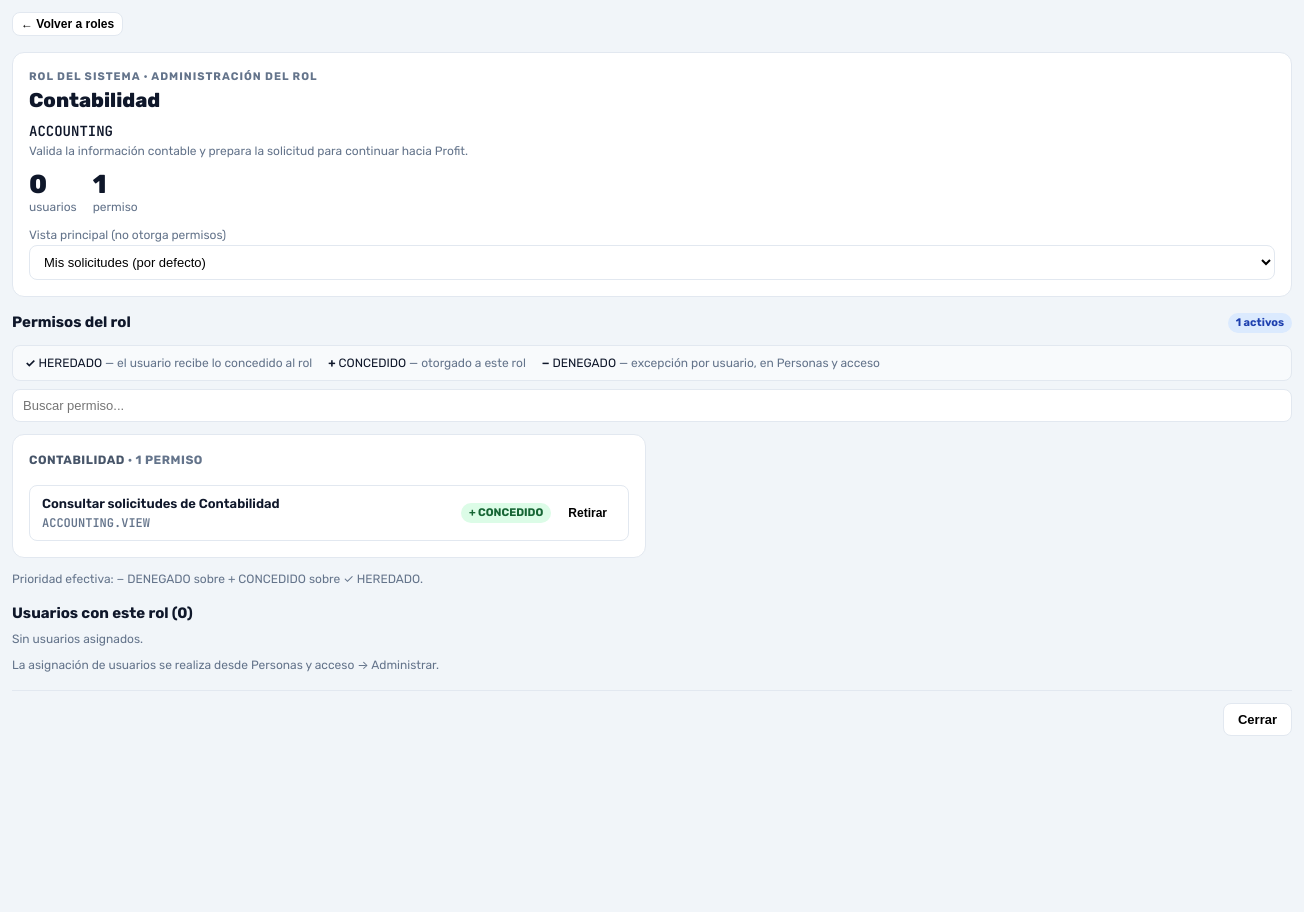
FASE 18 — vista principal en Roles y permisos › Caso 10: cambiar la vista persiste en backend
Step 1. Select "Contabilidad" in the dropdown named "Vista principal del rol" → (652, 262), box x1=29 y1=244 x2=1275 y2=280
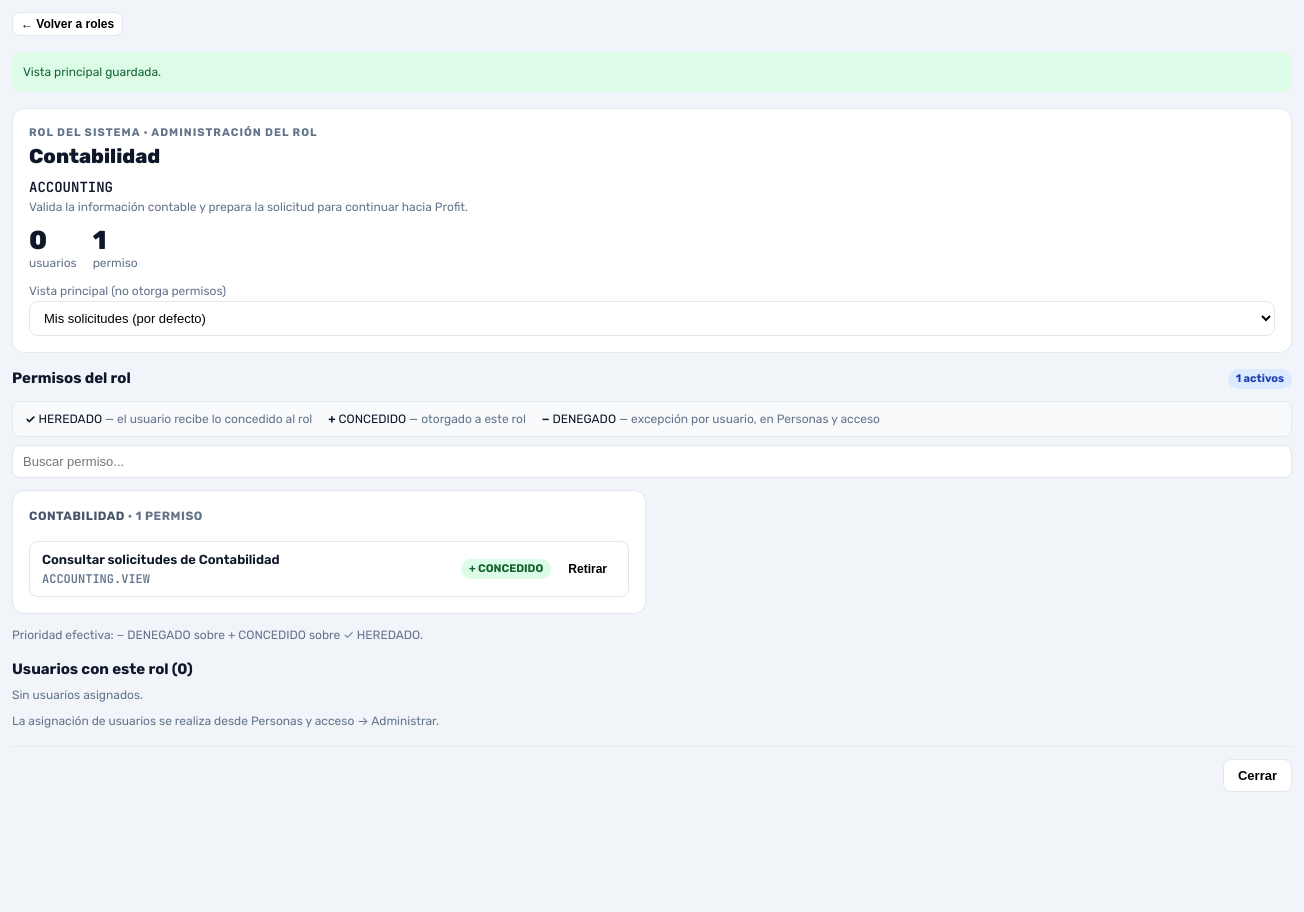
Result: the text "Vista principal guardada." is shown at x1=12 y1=52 x2=1292 y2=92
